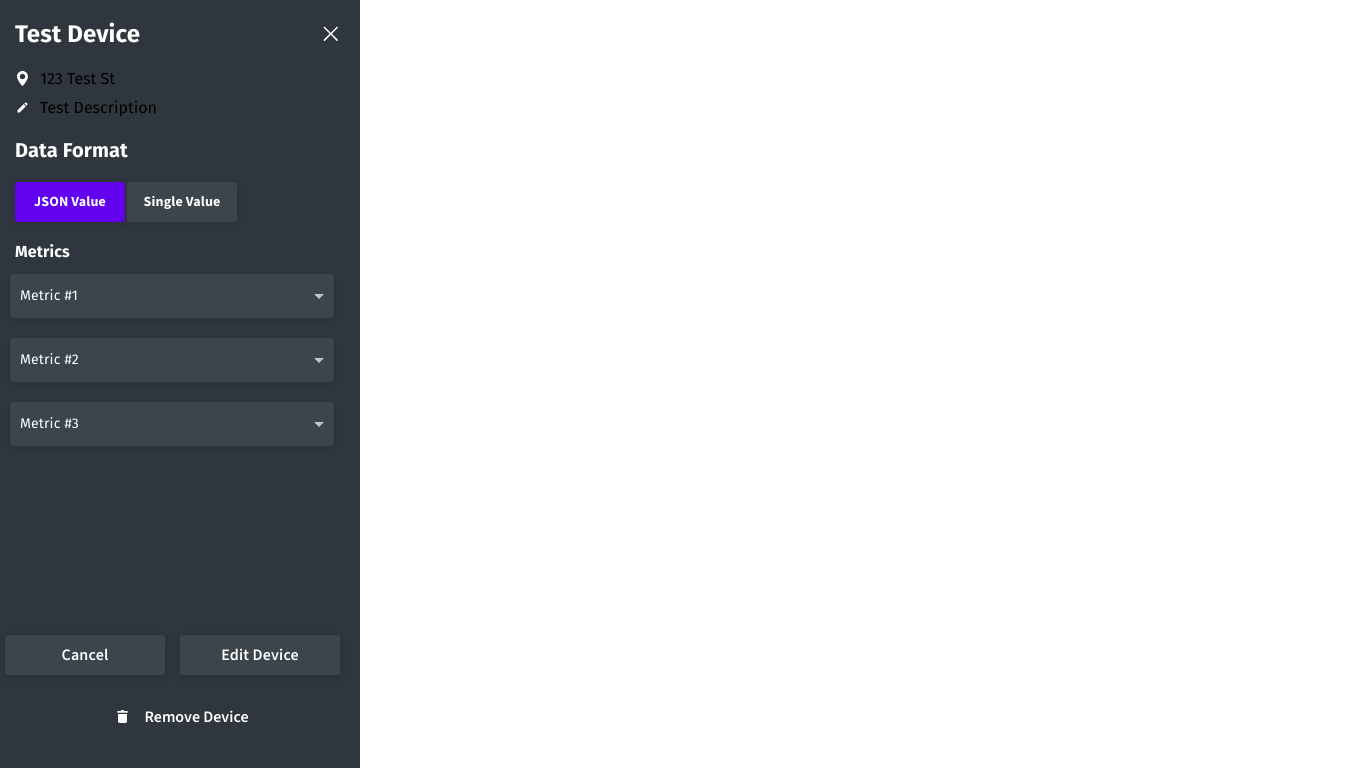
Scenario: EditDevicePanel › shows the remove device modal when the remove button is clicked
The width and height of the screenshot is (1366, 768).
Step 1. Click the text "Remove Device" → point(197, 716), box [144, 706, 249, 727]
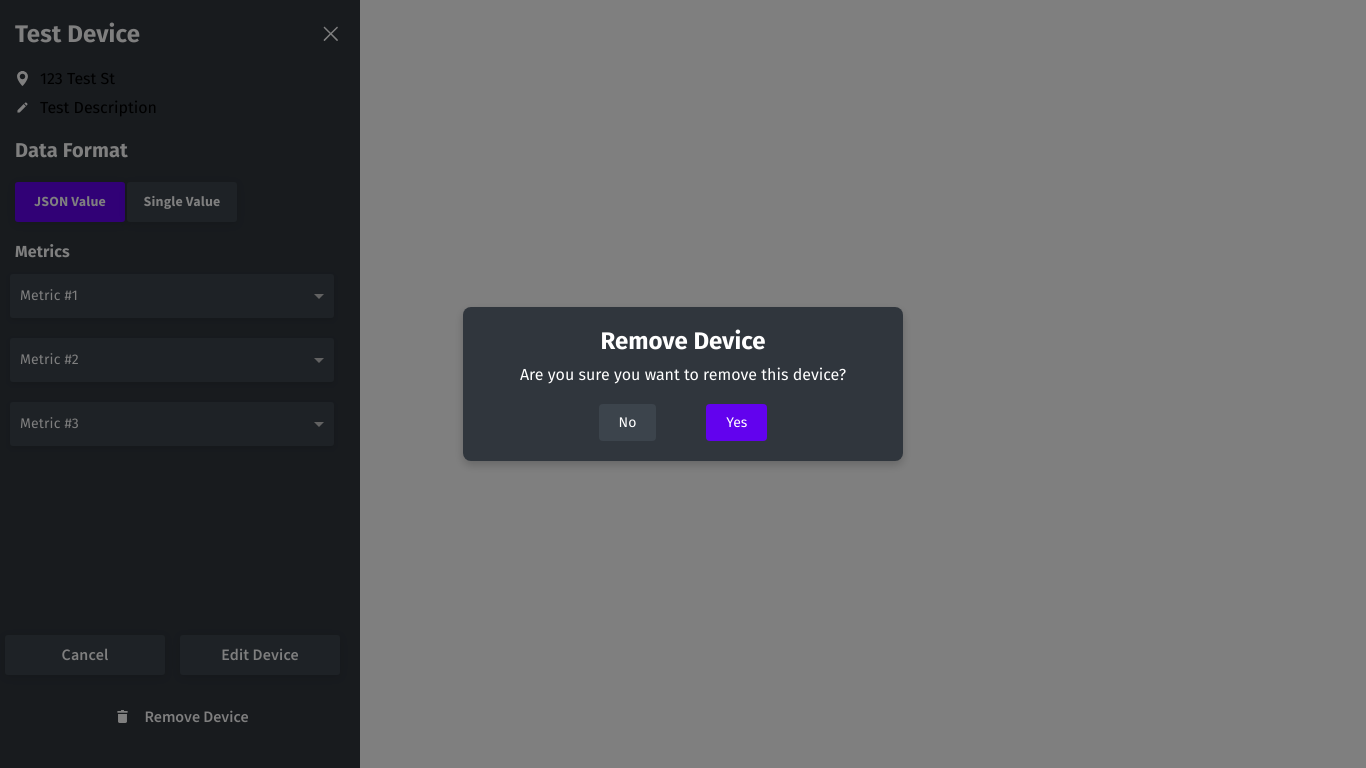
Result: the text "Are you sure you want to remove this device?" is shown at [520, 365, 846, 384]
